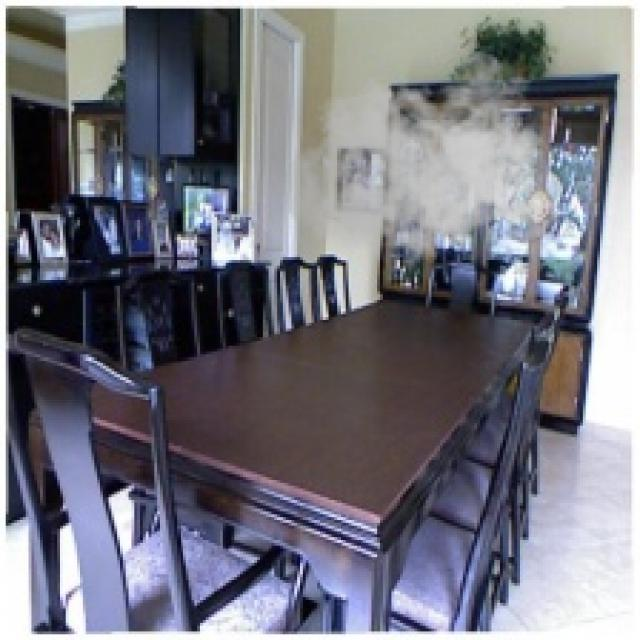smoke: (283, 51, 563, 283)
